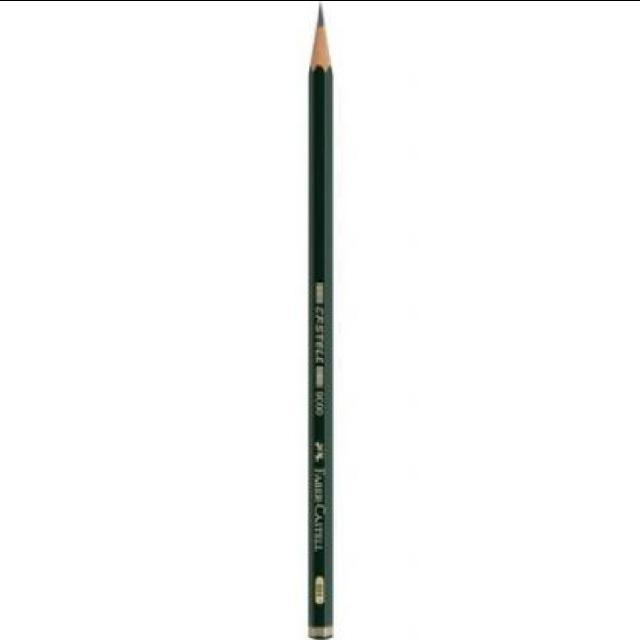pencil: (304, 0, 342, 97)
